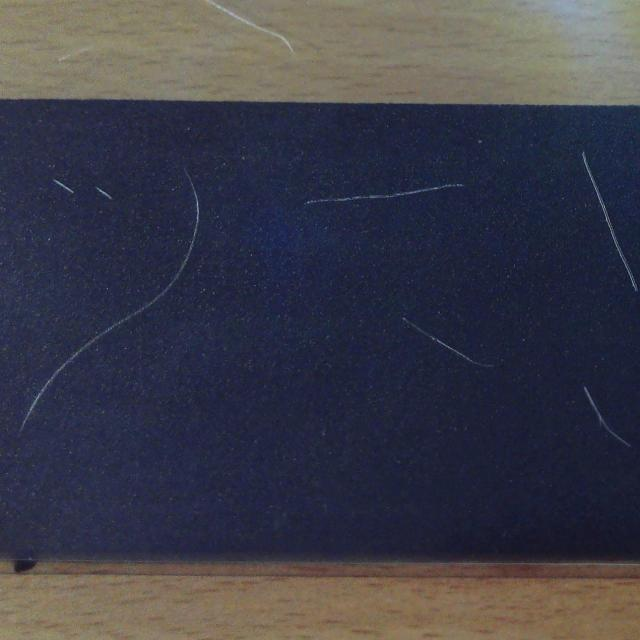defect: (20, 169, 200, 433), (581, 151, 640, 293), (401, 316, 494, 370), (304, 179, 464, 205), (582, 388, 633, 450), (52, 180, 77, 197), (97, 186, 116, 202)
